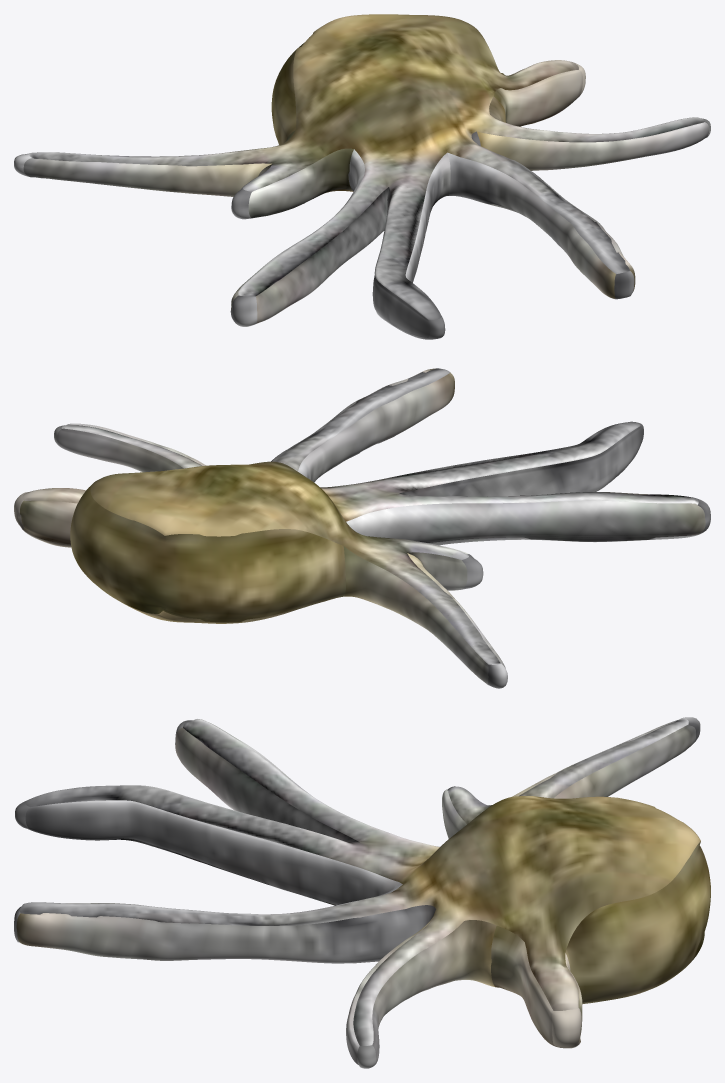
The model's file is biltong.glb.
3 renders of one model, top to bottom at view 1: azimuth 30°, elevation 25°; view 2: azimuth 150°, elevation 25°; view 3: azimuth 270°, elevation 25°, orthographic. The views are drawn at different scales.
Visible parts, largest first — view 1: biltong; view 2: biltong; view 3: biltong.
Boxes of the visible parts, x1,y1,x2,y2 form: biltong: (14, 14, 710, 339); biltong: (14, 368, 710, 688); biltong: (14, 717, 710, 1068).
Size of the model in its own units: 2235 by 413 by 1963.
Materials: 1 (1 with a texture image).
